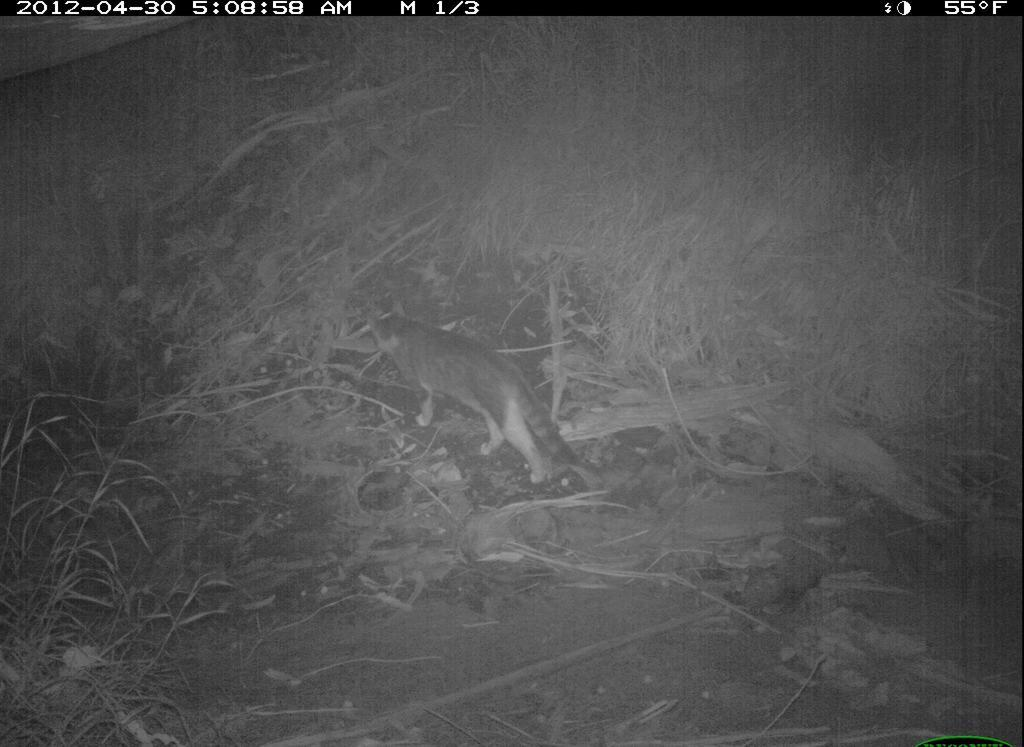cat: (349, 292, 603, 509)
